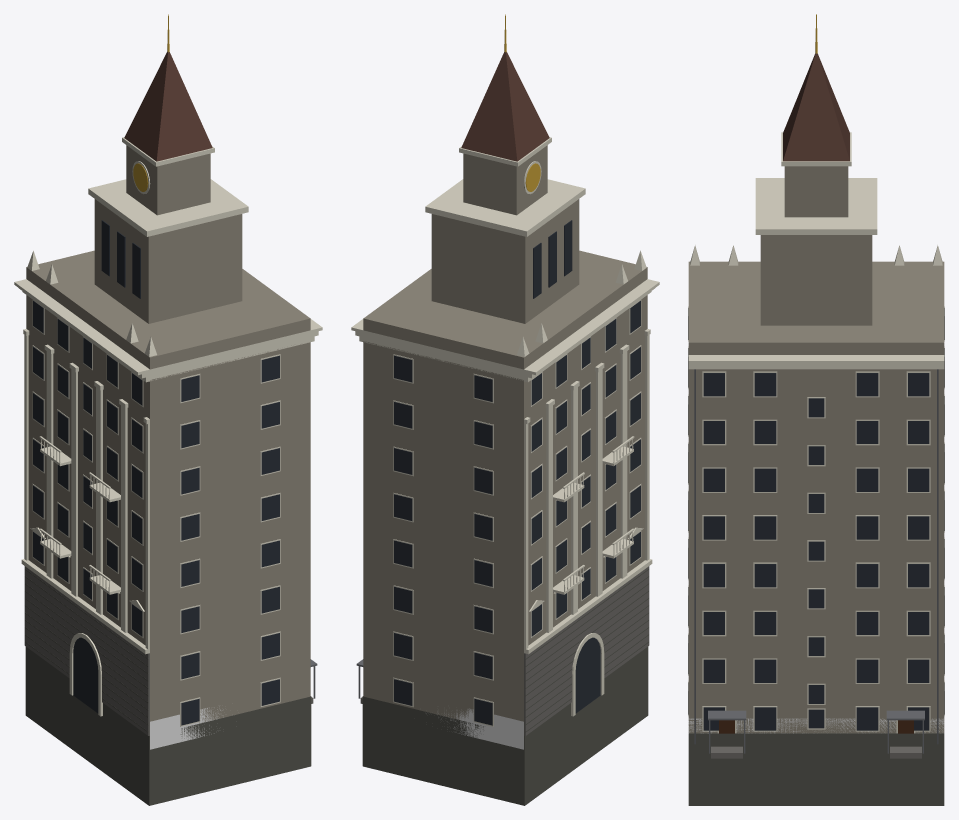
File: house-stalin-8.glb
3 renders of one model, left to right at view 1: azimuth 30°, elevation 25°; view 2: azimuth 150°, elevation 25°; view 3: azimuth 270°, elevation 25°, orthographic. The views are drawn at different scales.
Visible parts, largest first — view 1: 01_paint0, 03_#d8d4c4, 00_#55554f, 04_#2e333b, 02_#6e6c68, 09_#5a4038, solid; view 2: 01_paint0, 03_#d8d4c4, 00_#55554f, 04_#2e333b, 02_#6e6c68, 09_#5a4038, solid; view 3: 01_paint0, 04_#2e333b, 00_#55554f, 03_#d8d4c4, 09_#5a4038, 07_#5c5e62, 06_#6a6c70, solid, 02_#6e6c68.
Boxes of the visible parts, x1,y1,x2,y2 form: 01_paint0: [26, 145, 310, 722]; 03_#d8d4c4: [14, 137, 322, 726]; 00_#55554f: [24, 569, 311, 805]; 04_#2e333b: [33, 220, 279, 725]; 02_#6e6c68: [24, 566, 313, 735]; 09_#5a4038: [124, 52, 212, 161]; solid: [150, 706, 223, 749]; 01_paint0: [363, 145, 647, 721]; 03_#d8d4c4: [351, 137, 659, 726]; 00_#55554f: [362, 569, 649, 805]; 04_#2e333b: [394, 220, 640, 725]; 02_#6e6c68: [360, 566, 649, 735]; 09_#5a4038: [461, 52, 549, 161]; solid: [426, 708, 523, 749]; 01_paint0: [688, 166, 944, 733]; 04_#2e333b: [688, 308, 944, 730]; 00_#55554f: [688, 733, 944, 805]; 03_#d8d4c4: [688, 132, 944, 733]; 09_#5a4038: [783, 53, 849, 161]; 07_#5c5e62: [694, 369, 938, 744]; 06_#6a6c70: [708, 710, 924, 753]; solid: [688, 718, 943, 733]; 02_#6e6c68: [711, 746, 921, 758].
Bounding box in the file's own units: 14.22 × 51.9 × 16.09.
